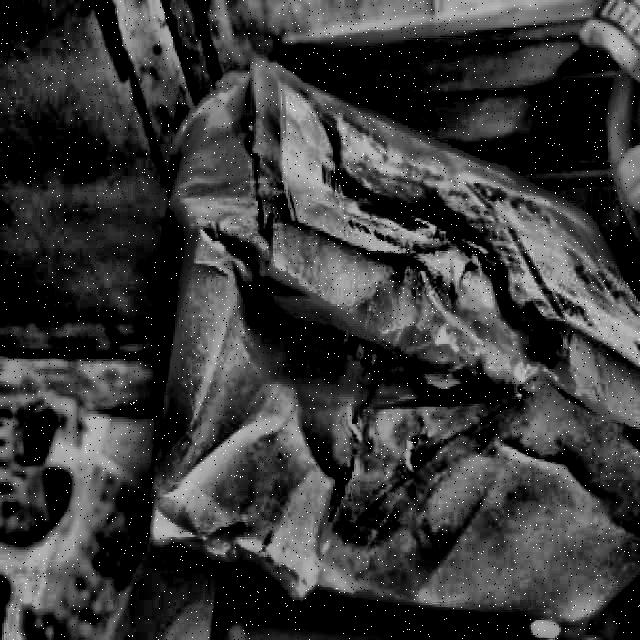box: (140, 46, 640, 639)
hole: (516, 315, 578, 384)
